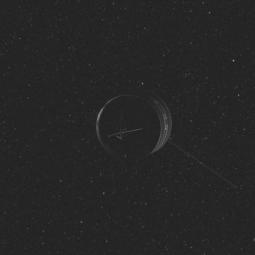double_start: (79, 80, 185, 165)
